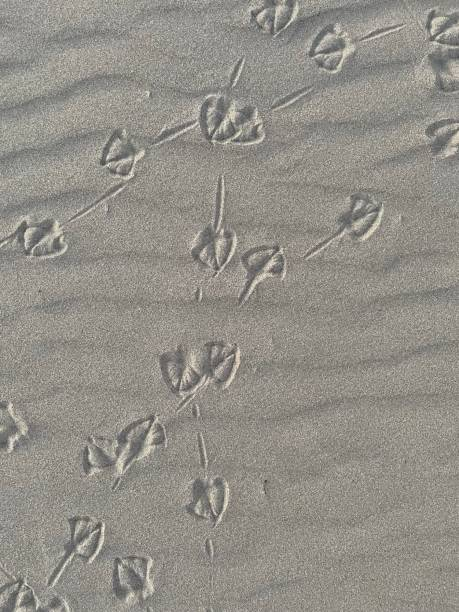animal_foot_print: (0, 1, 458, 612), (0, 400, 155, 611), (0, 179, 132, 260), (304, 192, 382, 258), (193, 175, 236, 276), (48, 516, 103, 586), (200, 93, 264, 145), (113, 556, 154, 611), (309, 24, 354, 72), (160, 347, 202, 397), (250, 0, 299, 37), (19, 220, 67, 256), (205, 341, 239, 388), (0, 401, 27, 452), (428, 49, 458, 92), (426, 119, 458, 158), (0, 579, 38, 611), (426, 8, 458, 45)
